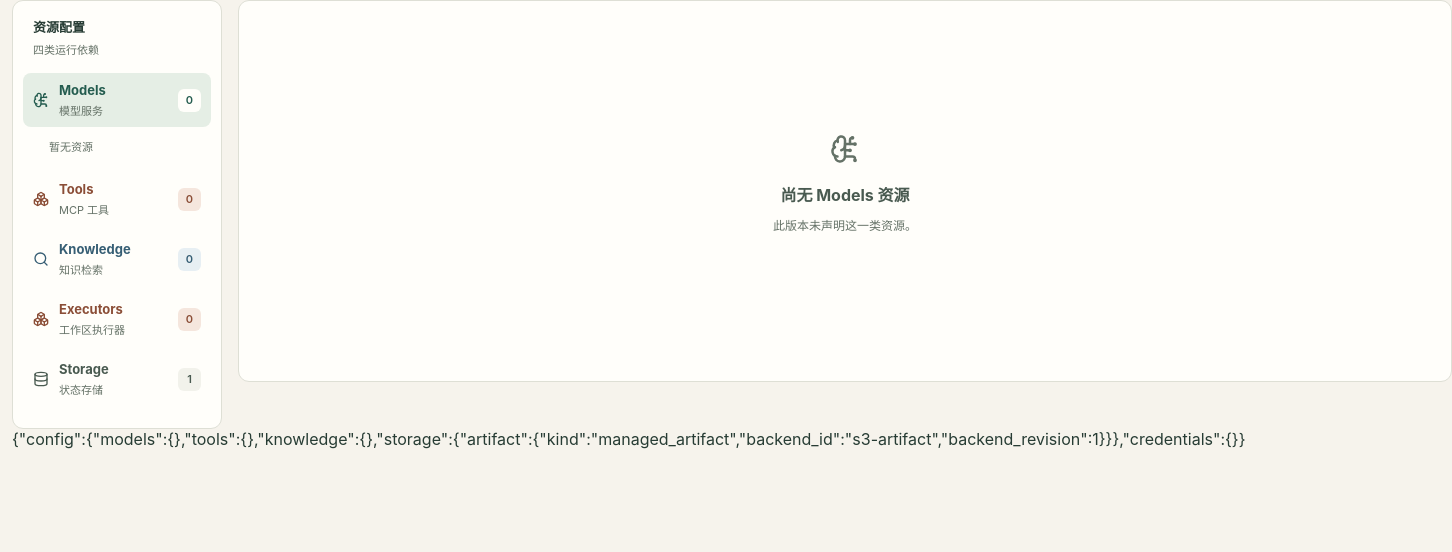
Test: displays immutable S3 credential state without consulting a current catalog
Click the button with aria-label "Storage ·" at (117, 379), box [23, 352, 211, 406]
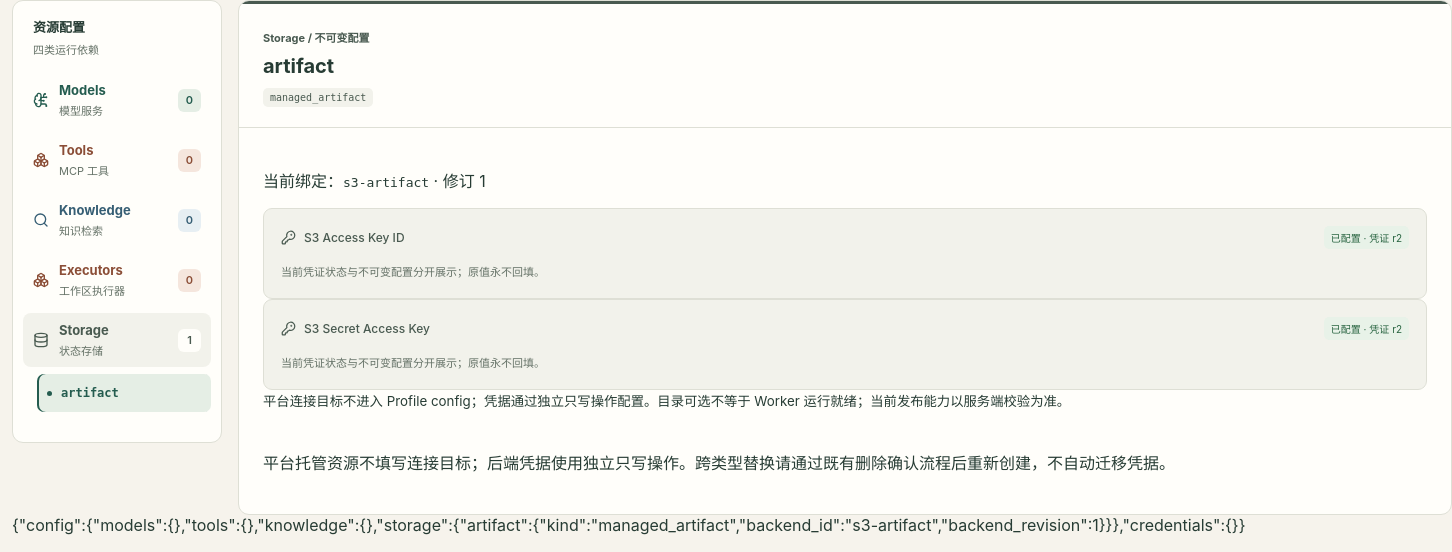
Now the element "S3 Access Key ID" shows "凭证 r2", box [1331, 232, 1402, 244]
Now the element "S3 Secret Access Key" shows "凭证 r2", box [1331, 323, 1402, 335]
